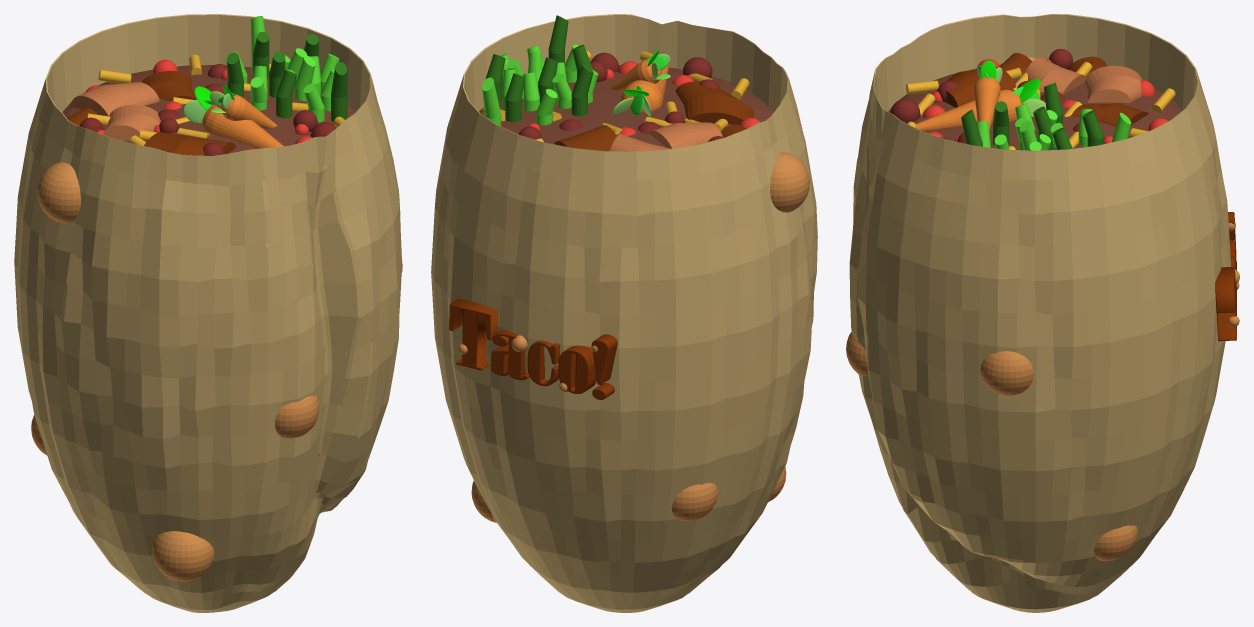
Rendered from taco_funny_hehe.fbx.
The picture shows the model from 3 angles, left to right: view 1: azimuth 30°, elevation 25°; view 2: azimuth 150°, elevation 25°; view 3: azimuth 270°, elevation 25°; orthographic projection.
Visible parts, largest first — view 1: Sphere, Sphere.001, Sphere.033, Sphere.031, Cylinder.021, Cone, Cylinder.019, Sphere.027, Cylinder.018, Cylinder.020, Cone.001, Cylinder.017 (+5 smaller); view 2: Sphere, Text, Sphere.001, Cylinder.018, Sphere.031, Sphere.032, Cylinder.019, Cylinder.020, Cone, Cylinder.013, Cylinder.014, Cone.001 (+6 smaller); view 3: Sphere, Sphere.001, Sphere.028, Cylinder.021, Text, Cone, Cylinder.019, Sphere.030, Cylinder.018, Cone.001, Cylinder.020, Sphere.027 (+3 smaller).
Part boxes in pixels (left/top/right/bottom): Sphere: left=14, top=14, right=402, bottom=612; Sphere.001: left=62, top=65, right=355, bottom=153; Sphere.033: left=152, top=531, right=214, bottom=581; Sphere.031: left=37, top=162, right=80, bottom=223; Cylinder.021: left=71, top=82, right=159, bottom=116; Cone: left=202, top=104, right=283, bottom=148; Cylinder.019: left=102, top=104, right=160, bottom=140; Sphere.027: left=275, top=395, right=319, bottom=438; Cylinder.018: left=144, top=132, right=235, bottom=155; Cylinder.020: left=142, top=71, right=196, bottom=100; Cone.001: left=221, top=94, right=277, bottom=128; Cylinder.017: left=331, top=62, right=347, bottom=121; Sphere: left=431, top=14, right=817, bottom=612; Text: left=449, top=298, right=617, bottom=399; Sphere.001: left=479, top=65, right=773, bottom=151; Cylinder.018: left=675, top=81, right=754, bottom=124; Sphere.031: left=770, top=152, right=809, bottom=212; Sphere.032: left=671, top=483, right=718, bottom=521; Cylinder.019: left=649, top=122, right=722, bottom=148; Cylinder.020: left=554, top=125, right=616, bottom=151; Cone: left=620, top=63, right=669, bottom=111; Cylinder.013: left=571, top=64, right=593, bottom=116; Cylinder.014: left=505, top=73, right=525, bottom=122; Cone.001: left=609, top=59, right=662, bottom=91; Sphere: left=849, top=14, right=1230, bottom=612; Sphere.001: left=888, top=69, right=1181, bottom=149; Sphere.028: left=980, top=351, right=1033, bottom=395; Cylinder.021: left=1084, top=65, right=1142, bottom=102; Text: left=1215, top=212, right=1236, bottom=341; Cone: left=916, top=89, right=1023, bottom=131; Cylinder.019: left=1025, top=57, right=1086, bottom=94; Sphere.030: left=1094, top=525, right=1137, bottom=561; Cylinder.018: left=936, top=67, right=1016, bottom=107; Cone.001: left=974, top=77, right=1000, bottom=130; Cylinder.020: left=1071, top=103, right=1148, bottom=126; Sphere.027: left=846, top=332, right=868, bottom=375.
Size of the model in its own units: 207 by 306 by 202.
